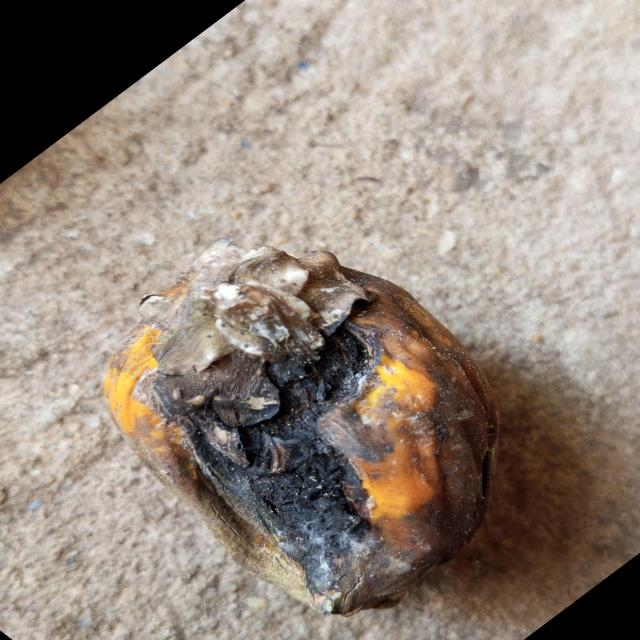damaged: (105, 239, 498, 614)
